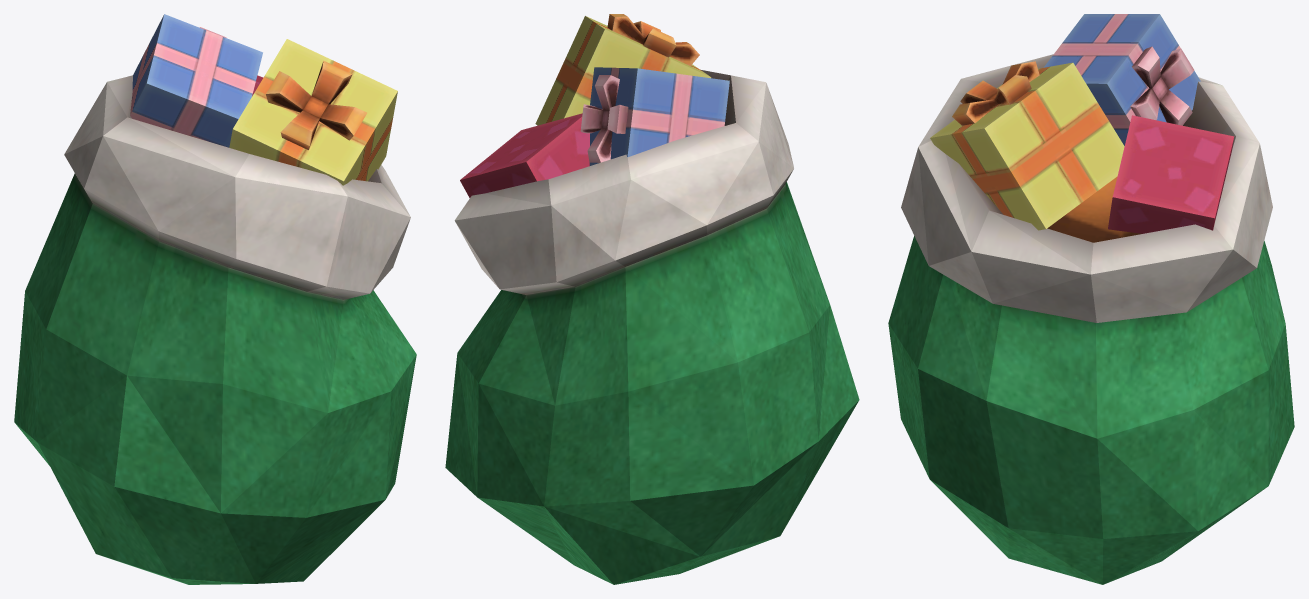
The model's file is Wolf_santaBag.obj.
The picture shows the model from 3 angles, left to right: view 1: azimuth 30°, elevation 25°; view 2: azimuth 150°, elevation 25°; view 3: azimuth 270°, elevation 25°; orthographic projection. The views are drawn at different scales.
Parts seen in each view (by area): view 1: Wolf_santaBag_tri; view 2: Wolf_santaBag_tri; view 3: Wolf_santaBag_tri.
Boxes of the visible parts, x1,y1,x2,y2 form: Wolf_santaBag_tri: (14, 14, 416, 584); Wolf_santaBag_tri: (445, 14, 859, 584); Wolf_santaBag_tri: (888, 14, 1294, 584).
Size of the model in its own units: 0.419 by 0.6192 by 0.4282.
1 material, 1 textured.
